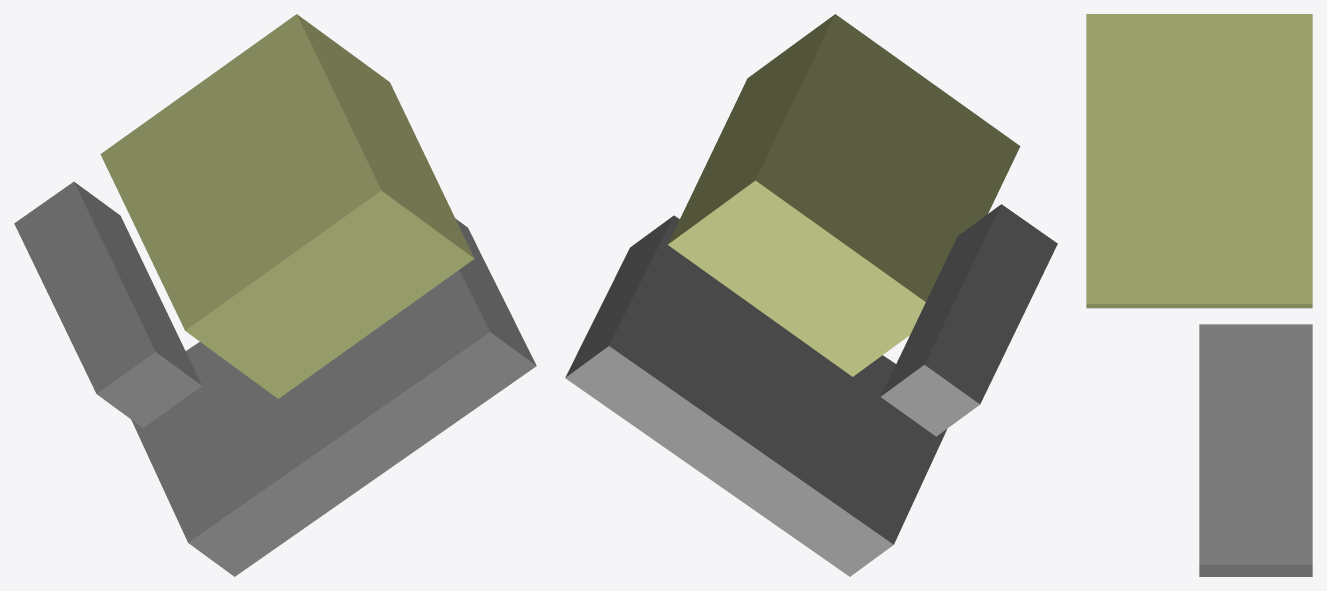
3 views of the same model, side by side, from view 1: azimuth 30°, elevation 25°; view 2: azimuth 150°, elevation 25°; view 3: azimuth 270°, elevation 25° (orthographic). The views are drawn at different scales.
Parts seen in each view (by area): view 1: 0_1_0_2_0_0_3_1_2_3; view 2: 0_1_0_2_0_0_3_1_2_3; view 3: 0_1_0_2_0_0_3_1_2_3.
Boxes of the visible parts, x1,y1,x2,y2 form: 0_1_0_2_0_0_3_1_2_3: (14,14,536,576); 0_1_0_2_0_0_3_1_2_3: (565,14,1057,576); 0_1_0_2_0_0_3_1_2_3: (1086,14,1312,576).
Size of the model in its own units: 17.69 by 17.84 by 6.
